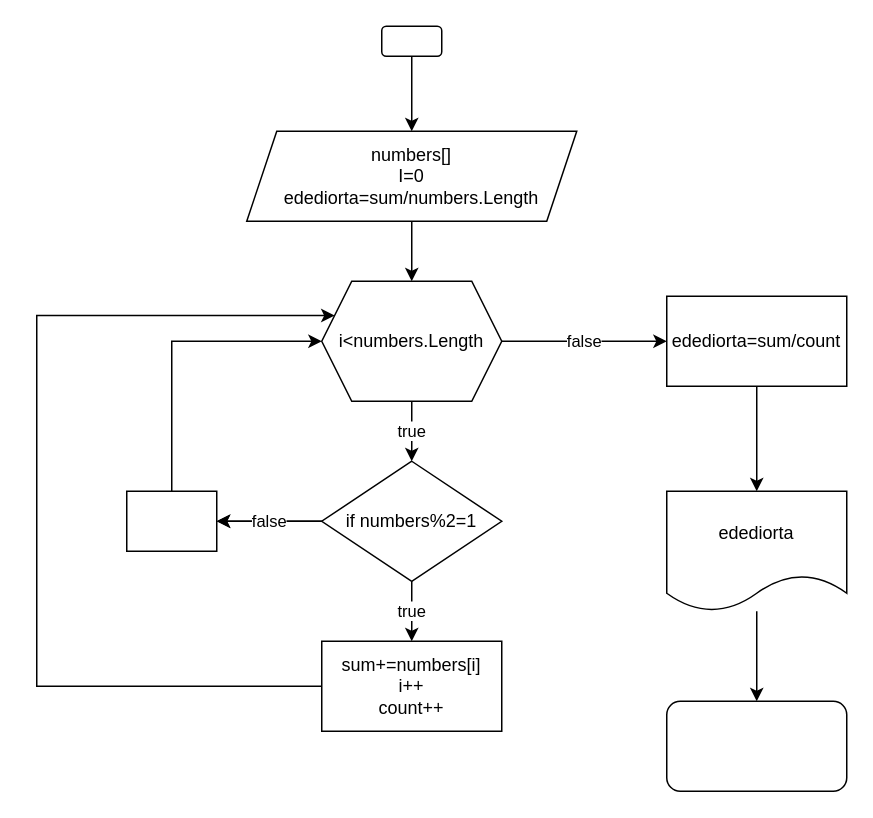
This 873x818 diagram has some shape labels left out. The box of each missing label's shape, as (x1, y1, x2, y2) in pixels:
end: (665, 700, 847, 791)
i++: (125, 490, 217, 551)
start: (380, 25, 442, 56)
